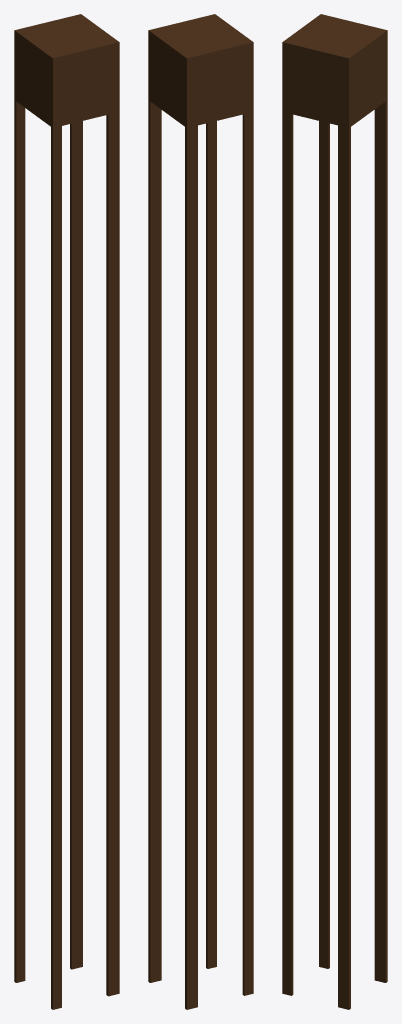
The model's file is bench.dae.
The picture shows the model from 3 angles, left to right: view 1: azimuth 30°, elevation 25°; view 2: azimuth 210°, elevation 25°; view 3: azimuth 330°, elevation 25°; orthographic projection.
Parts seen in each view (by area): view 1: Cube; view 2: Cube; view 3: Cube.
Part boxes in pixels (box(x1,y1,x2,y2)): Cube: box(14, 14, 119, 1009); Cube: box(148, 14, 253, 1009); Cube: box(282, 14, 387, 1009).
Bounding box in the file's own units: 0.002 × 0.002 × 0.0273.
